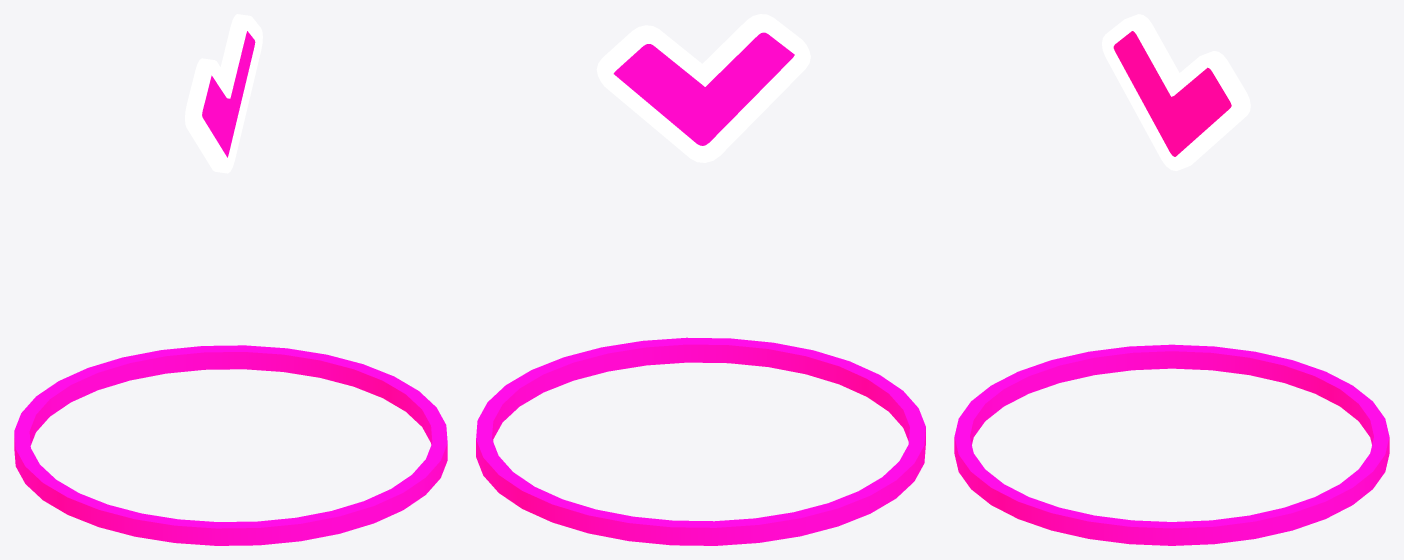
File: pinkPod.glb
3 views of the same model, side by side, from view 1: azimuth 30°, elevation 25°; view 2: azimuth 150°, elevation 25°; view 3: azimuth 270°, elevation 25° (orthographic). The views are drawn at different scales.
Visible parts, largest first — view 1: pinkPod; view 2: pinkPod; view 3: pinkPod.
Part boxes in pixels (bbox=[...]): pinkPod: bbox=[14, 14, 447, 545]; pinkPod: bbox=[476, 14, 925, 545]; pinkPod: bbox=[954, 14, 1389, 545].
Bounding box in the file's own units: 6.59 × 6.96 × 6.59.
